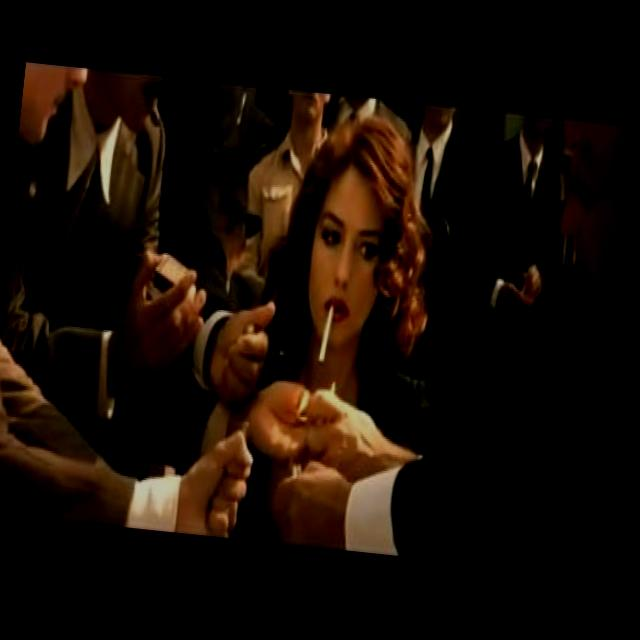cigarette: (313, 301, 338, 365)
